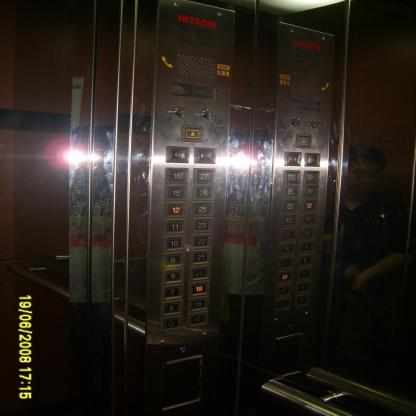10: (161, 234, 186, 252)
11: (161, 217, 187, 235)
12: (163, 201, 188, 218)
15: (163, 184, 189, 201)
16: (164, 167, 189, 184)
17: (186, 310, 208, 328)
18: (187, 295, 209, 313)
19: (187, 280, 210, 297)
20: (188, 264, 210, 281)
21: (187, 249, 211, 266)
22: (188, 232, 212, 250)
23: (189, 217, 213, 234)
25: (191, 201, 214, 217)
26: (192, 184, 214, 200)
27: (192, 168, 216, 184)
6: (159, 298, 184, 317)
7: (159, 282, 184, 300)
8: (160, 266, 184, 284), (296, 253, 314, 268)
9: (161, 251, 186, 268)
G: (159, 314, 182, 333)
alarm: (180, 124, 204, 143), (295, 133, 312, 149)
blur: (286, 323, 296, 331)
close: (193, 146, 216, 164), (284, 151, 302, 166)
keyhole: (200, 108, 213, 119), (172, 106, 186, 116), (289, 117, 300, 127), (310, 119, 319, 128), (179, 346, 188, 354)
led: (172, 83, 216, 100), (288, 98, 320, 112)
open: (165, 145, 190, 163), (304, 152, 320, 167)
unknown: (280, 212, 300, 228), (292, 280, 312, 295), (281, 198, 299, 214), (277, 255, 295, 271), (282, 169, 301, 184), (281, 184, 300, 199), (279, 227, 298, 242), (274, 283, 293, 298), (276, 269, 293, 285), (295, 266, 312, 282), (300, 198, 318, 213), (299, 212, 317, 227), (278, 241, 296, 256), (274, 296, 292, 311), (293, 293, 311, 308), (297, 226, 316, 240), (302, 170, 320, 184), (298, 239, 314, 254), (302, 184, 319, 198)
